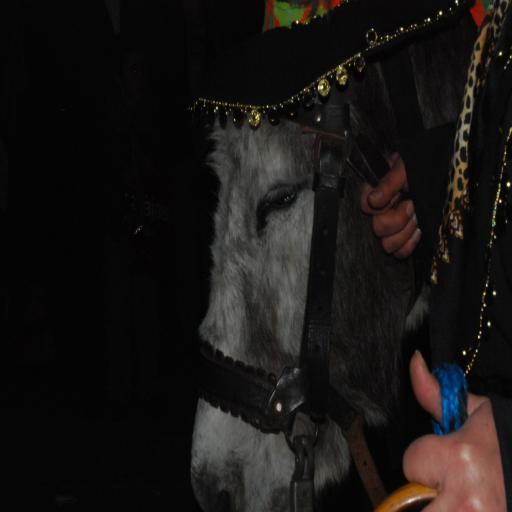horse: (188, 0, 488, 512)
